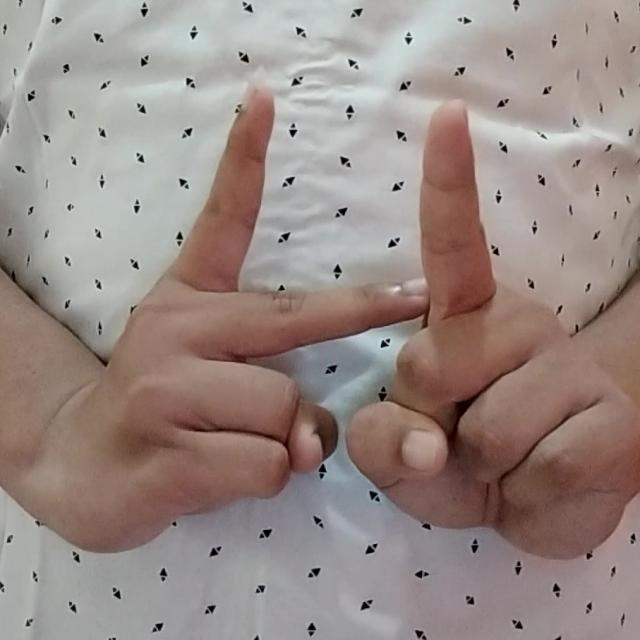H: (43, 73, 622, 565)
